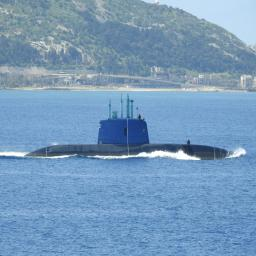submarine: (24, 92, 237, 162)
